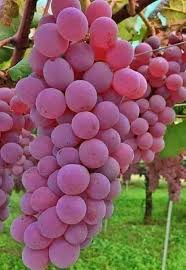Red Grapes: (6, 1, 160, 270)
